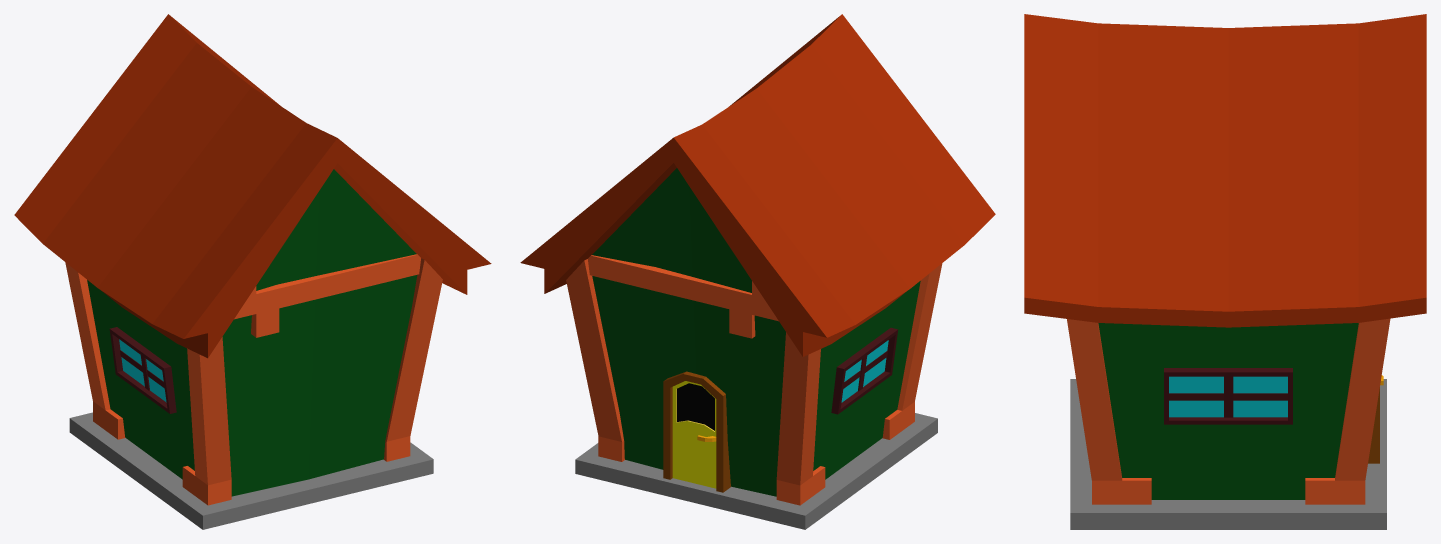
The model's file is CasaPequenaVerde.fbx.
The picture shows the model from 3 angles, left to right: view 1: azimuth 30°, elevation 25°; view 2: azimuth 150°, elevation 25°; view 3: azimuth 270°, elevation 25°; orthographic projection. The views are drawn at different scales.
Visible parts, largest first — view 1: CasaPequenaVerde; view 2: CasaPequenaVerde; view 3: CasaPequenaVerde.
Part boxes in pixels (<box>): CasaPequenaVerde: <box>14,14,491,529</box>; CasaPequenaVerde: <box>520,14,995,529</box>; CasaPequenaVerde: <box>1024,14,1426,529</box>.
Size of the model in its own units: 679 by 796 by 646.
